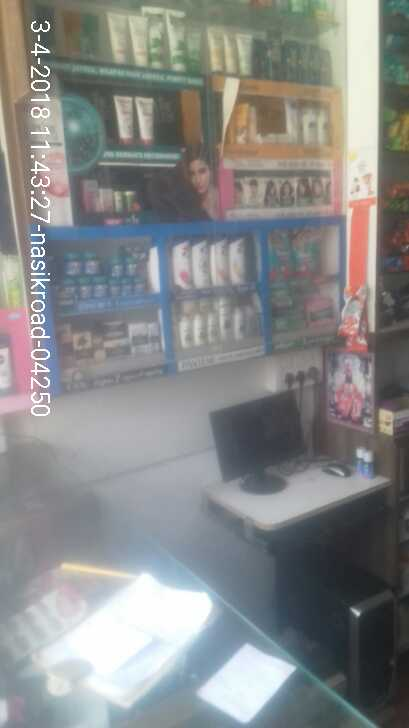vicks: (50, 241, 149, 306)
